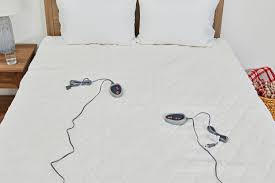bed-matress: (1, 27, 274, 183)
